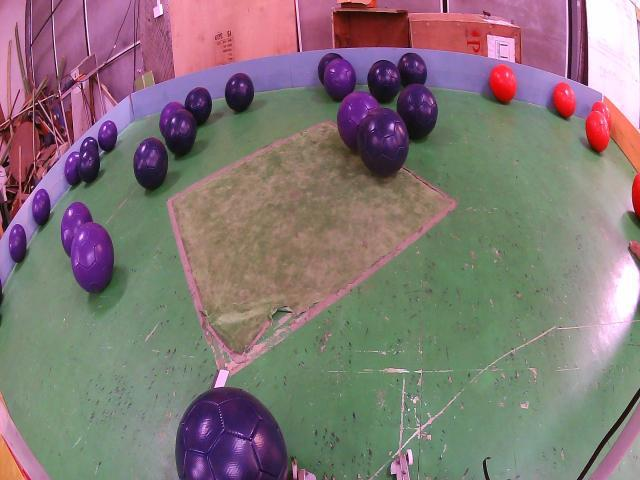jambhalya: (71, 222, 114, 293), (338, 90, 379, 150), (61, 202, 92, 257), (324, 58, 356, 101), (159, 102, 185, 137), (32, 188, 51, 225), (98, 120, 118, 152), (9, 225, 26, 262), (64, 152, 80, 185)
kaalyya: (175, 387, 288, 480), (358, 108, 409, 177), (396, 83, 438, 138), (134, 137, 168, 190), (164, 108, 198, 155), (368, 60, 401, 103), (225, 73, 254, 112), (185, 87, 212, 125), (398, 53, 428, 87), (79, 147, 100, 183), (318, 53, 342, 83), (80, 137, 99, 152)
